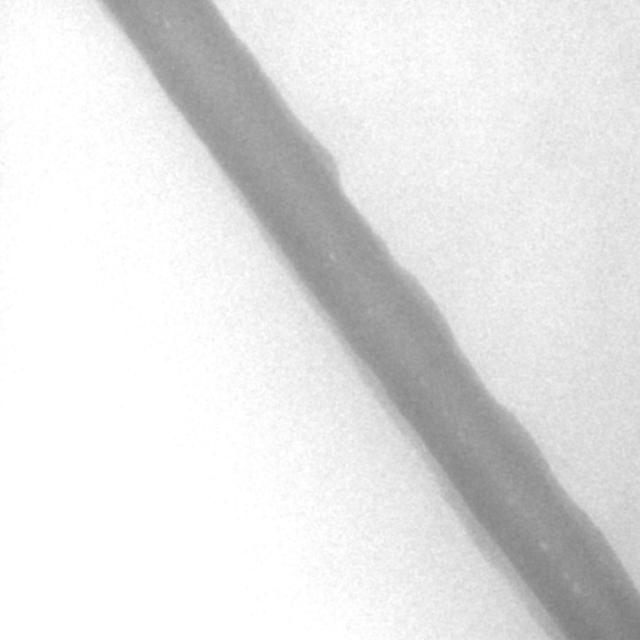air-hole: (574, 582, 582, 594), (420, 378, 429, 386), (564, 571, 571, 580), (541, 541, 547, 551), (443, 411, 450, 418), (331, 252, 336, 260), (413, 371, 417, 378), (369, 308, 372, 316), (456, 432, 462, 436), (401, 361, 405, 366), (509, 497, 512, 502)
